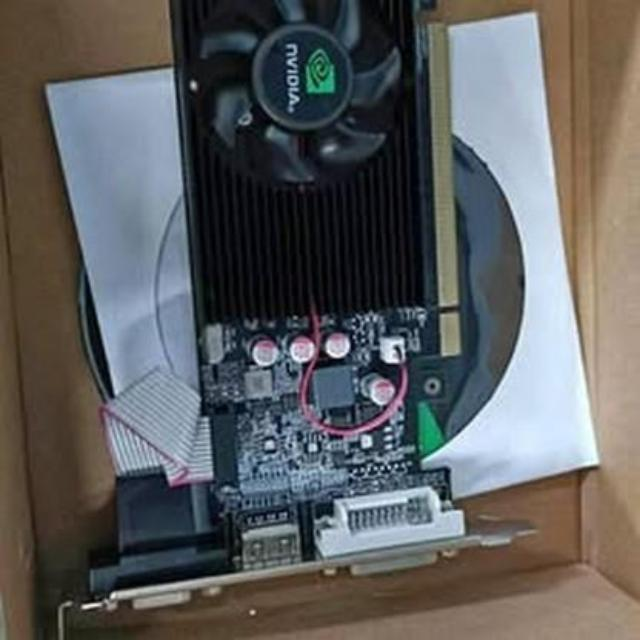GPU: (166, 0, 478, 577)
